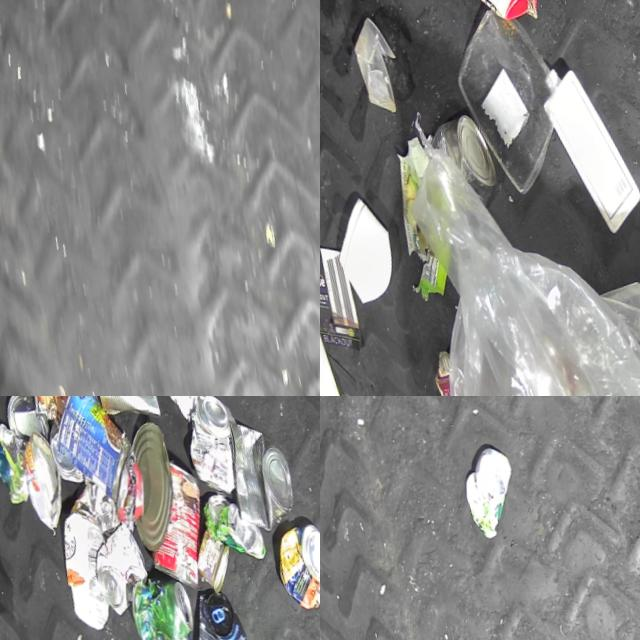can: (125, 445, 221, 593), (40, 396, 144, 510), (214, 401, 301, 532), (110, 410, 189, 549), (419, 104, 502, 214), (84, 512, 156, 617), (174, 396, 250, 495), (13, 422, 71, 532), (198, 476, 266, 563), (124, 562, 198, 640), (265, 507, 320, 609), (178, 576, 264, 640), (187, 517, 238, 589), (43, 414, 83, 485), (0, 396, 50, 445), (81, 396, 160, 425), (13, 396, 101, 421)
milk_jug: (529, 42, 640, 237)
non_white_jug: (422, 0, 551, 40)
